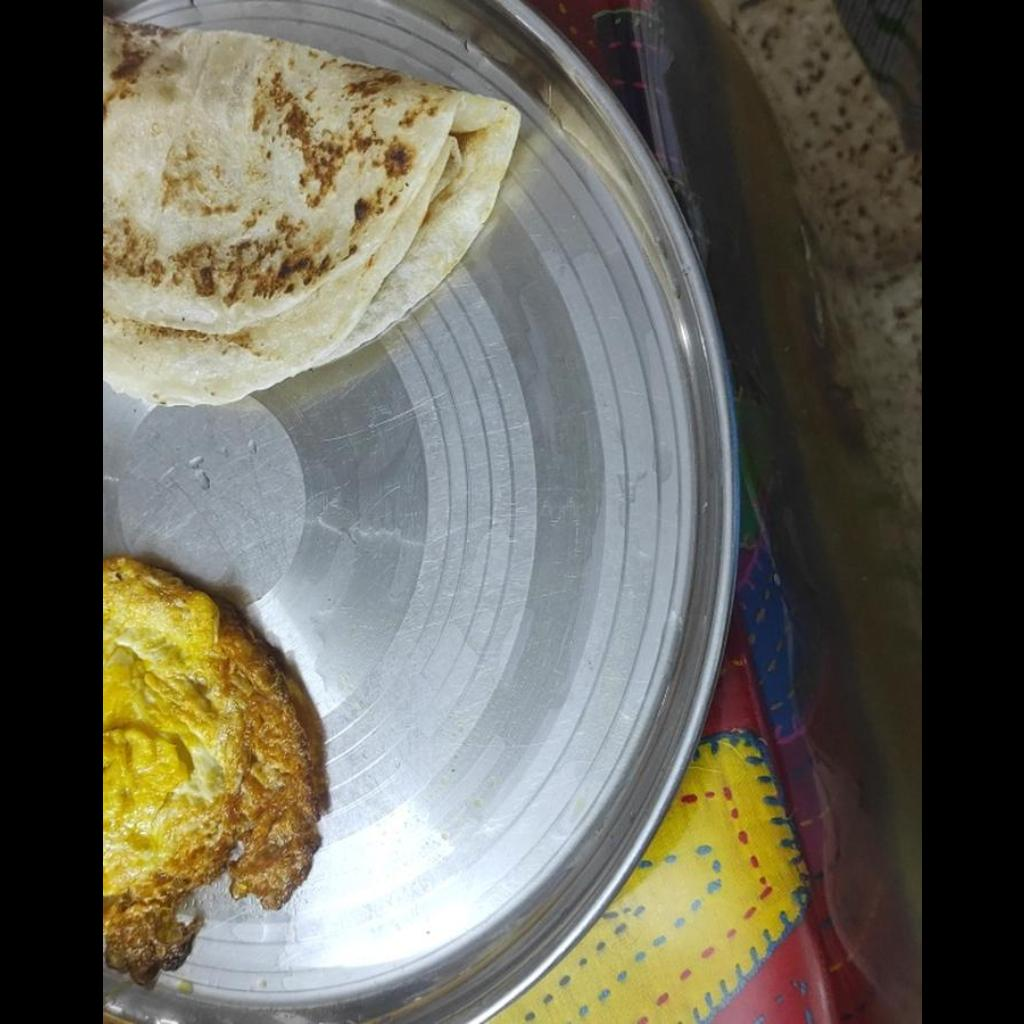egg-poached: (102, 554, 331, 990)
ruti: (102, 18, 523, 410)
